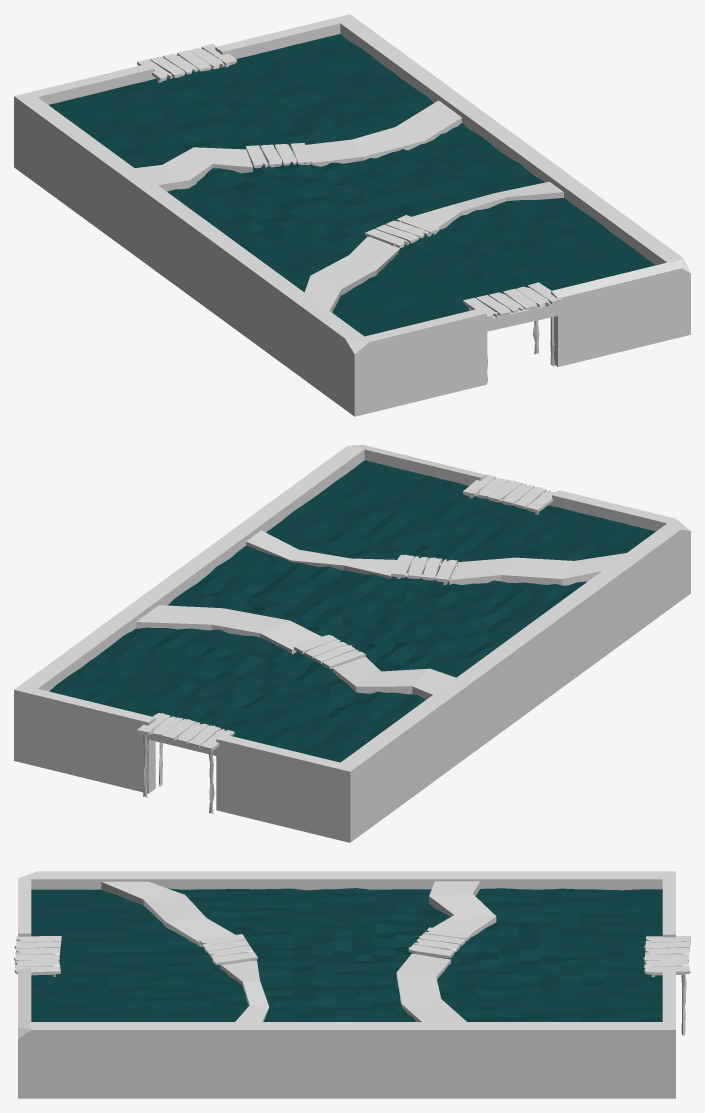
File: stage3_section1.fbx
3 renders of one model, top to bottom at view 1: azimuth 30°, elevation 25°; view 2: azimuth 150°, elevation 25°; view 3: azimuth 270°, elevation 25°, orthographic. The views are drawn at different scales.
Parts seen in each view (by area): view 1: water, WALL, Cube.001, Cube.002, Cube.003, Cylinder.004, Cube, Cylinder.001, Cylinder.007, Cylinder.006; view 2: water, WALL, Cube.001, Cube.002, Cube.003, Cylinder.001, Cube, Cylinder.004, Cylinder.006, Cylinder.007; view 3: water, WALL, Cube.002, Cube.001, Cube.003, Cylinder.001, Cylinder.004, Cube, Cylinder.006, Cylinder.007.
Part boxes in pixels (box(x1,y1,x2,y2)): water: box(49, 34, 655, 336); WALL: box(14, 14, 690, 416); Cube.001: box(305, 100, 461, 166); Cube.002: box(304, 237, 399, 312); Cube.003: box(135, 147, 252, 191); Cylinder.004: box(463, 282, 562, 382); Cube: box(412, 182, 563, 235); Cylinder.001: box(137, 43, 236, 82); Cylinder.007: box(365, 215, 439, 248); Cylinder.006: box(246, 142, 311, 168); water: box(49, 460, 655, 762); WALL: box(14, 445, 690, 842); Cube.001: box(136, 605, 321, 654); Cube.002: box(449, 553, 626, 585); Cube.003: box(332, 656, 455, 699); Cylinder.001: box(137, 713, 234, 814); Cube: box(246, 530, 396, 578); Cylinder.004: box(463, 474, 555, 514); Cylinder.006: box(294, 634, 365, 668); Cylinder.007: box(391, 554, 457, 585); water: box(31, 888, 662, 1021); WALL: box(18, 871, 675, 1098); Cube.002: box(101, 881, 235, 946); Cube.001: box(396, 953, 466, 1021); Cube.003: box(429, 881, 496, 937); Cylinder.001: box(643, 936, 690, 1035); Cylinder.004: box(14, 936, 61, 976); Cube: box(220, 960, 269, 1021); Cylinder.006: box(408, 927, 471, 958); Cylinder.007: box(199, 934, 257, 965).
Size of the model in its own units: 58.06 by 11.85 by 105.
